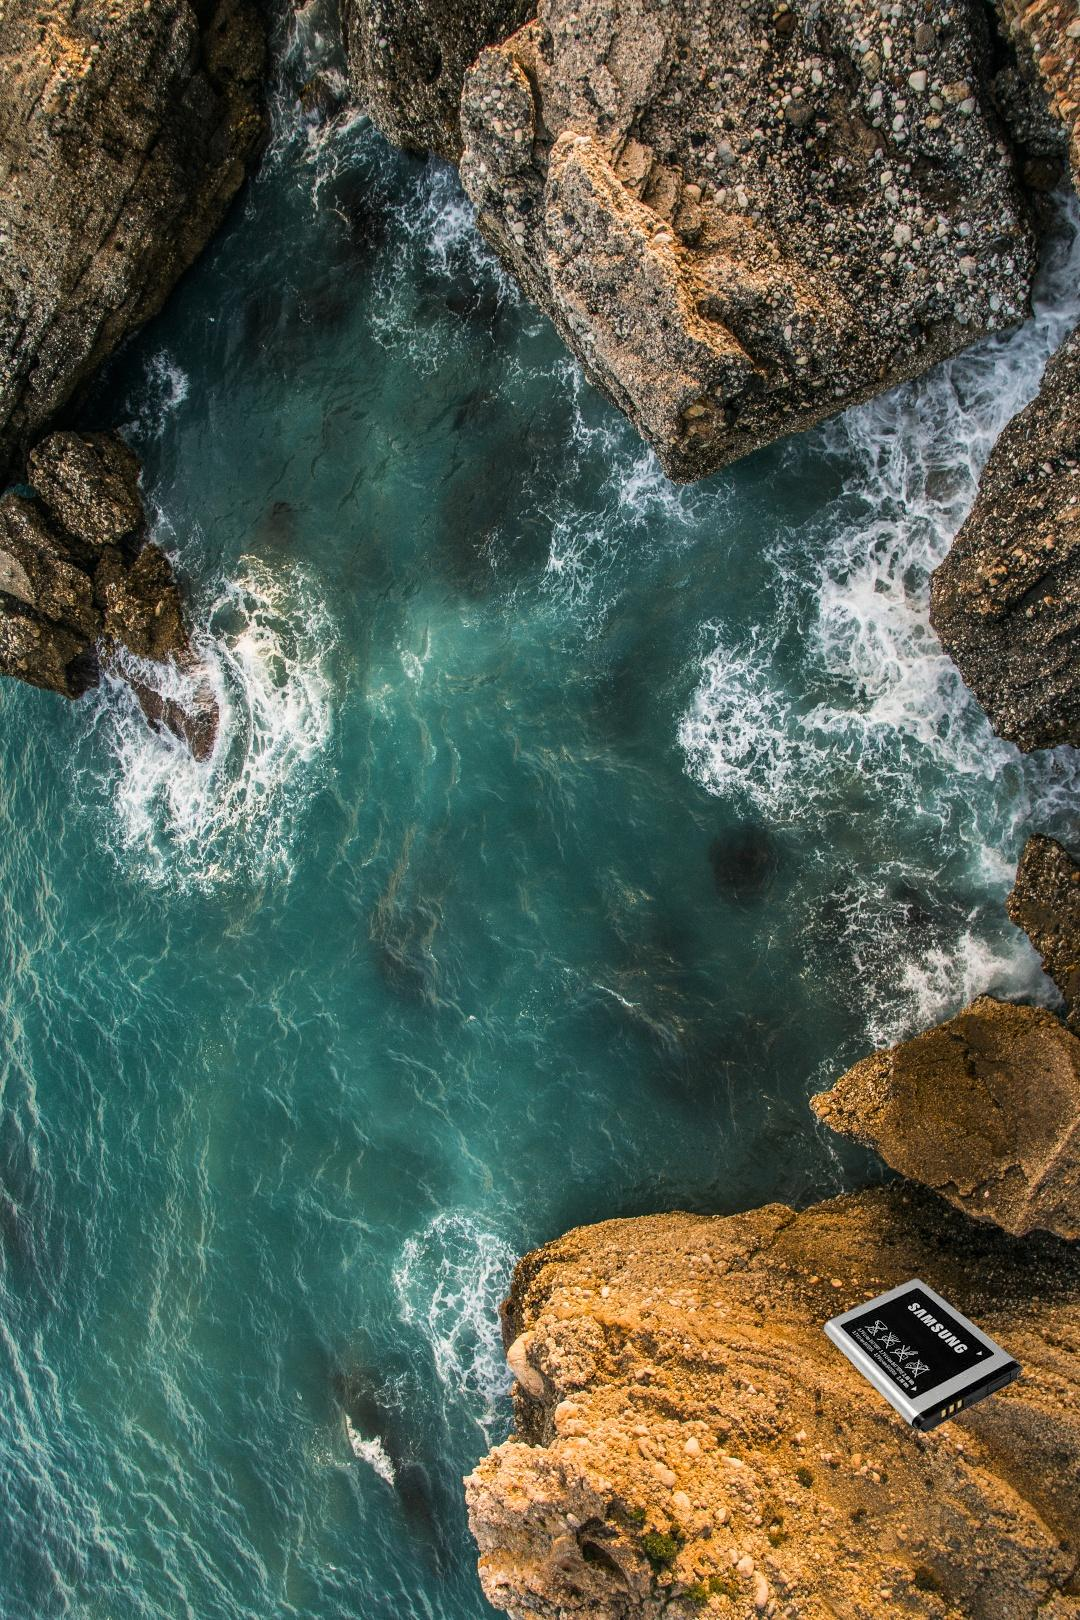battery: (821, 1275, 1026, 1436)
paper: (1078, 1414, 1080, 1620)
